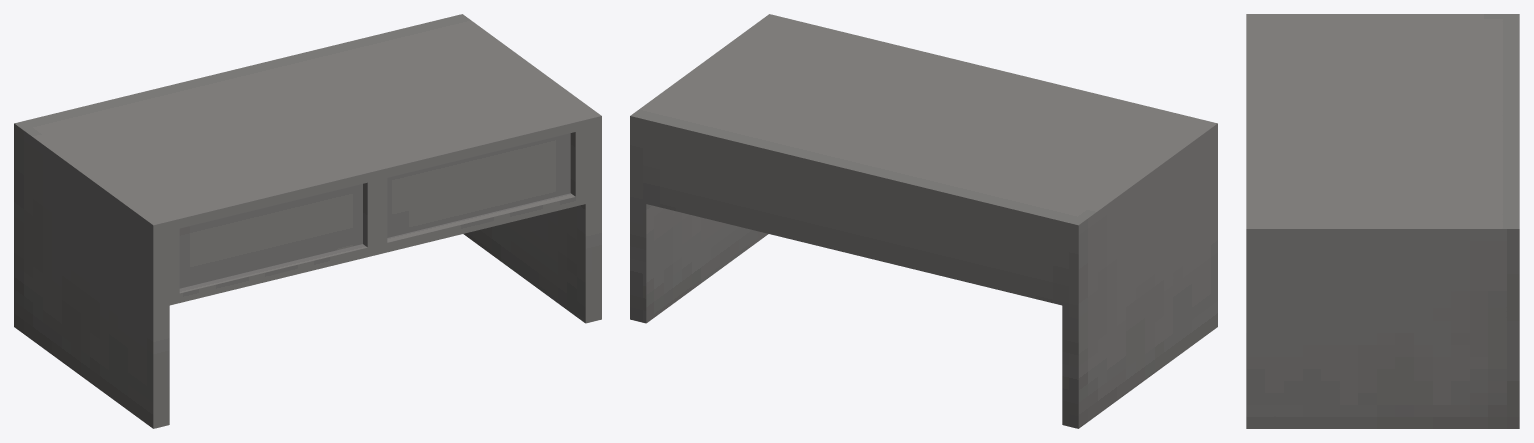
The model's file is table_2.fbx.
The picture shows the model from 3 angles, left to right: view 1: azimuth 30°, elevation 25°; view 2: azimuth 150°, elevation 25°; view 3: azimuth 270°, elevation 25°; orthographic projection.
Parts seen in each view (by area): view 1: table; view 2: table; view 3: table.
Boxes of the visible parts, box(x1,y1,x2,y2) form: table: box(14, 14, 601, 428); table: box(630, 14, 1217, 428); table: box(1246, 14, 1519, 428).
Size of the model in its own units: 279 by 121 by 150.
1 material, 1 textured.
